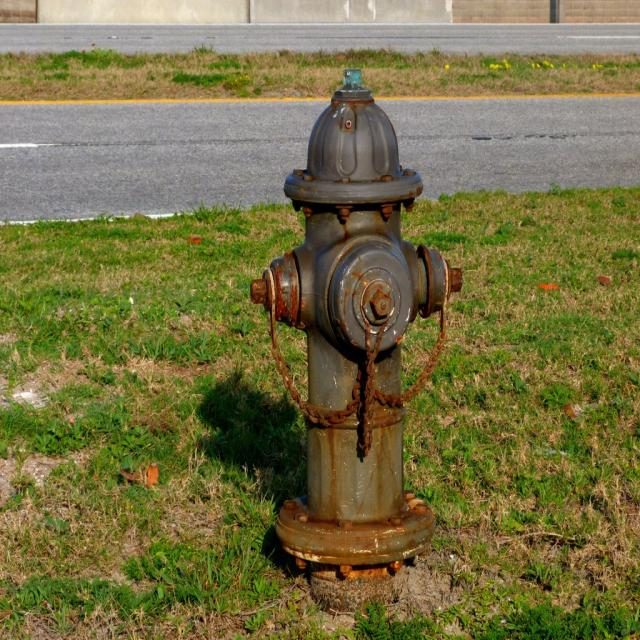fire_hydrant: (248, 71, 462, 579)
